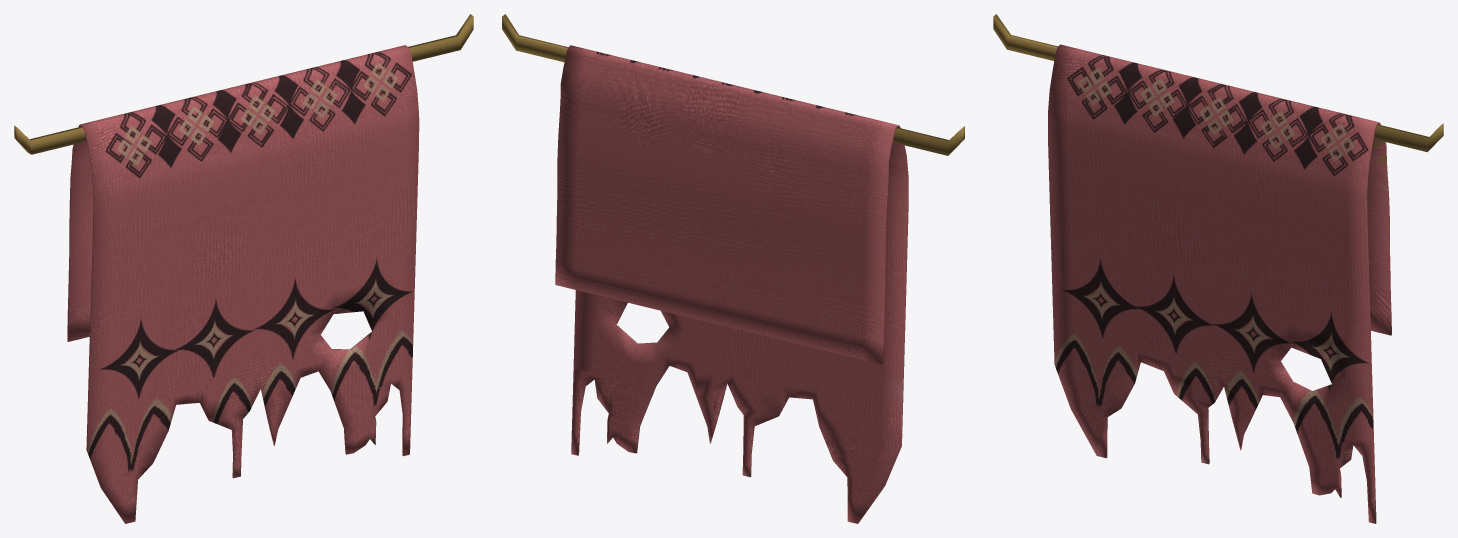
File: tela.fbx
The picture shows the model from 3 angles, left to right: view 1: azimuth 30°, elevation 25°; view 2: azimuth 150°, elevation 25°; view 3: azimuth 330°, elevation 25°; orthographic projection. The views are drawn at different scales.
Visible parts, largest first — view 1: Cube.001; view 2: Cube.001; view 3: Cube.001.
Part boxes in pixels (bbox=[...]): Cube.001: bbox=[14, 14, 473, 523]; Cube.001: bbox=[502, 14, 964, 523]; Cube.001: bbox=[993, 14, 1443, 523].
Size of the model in its own units: 281 by 248 by 28.25.
1 material, 1 textured.
